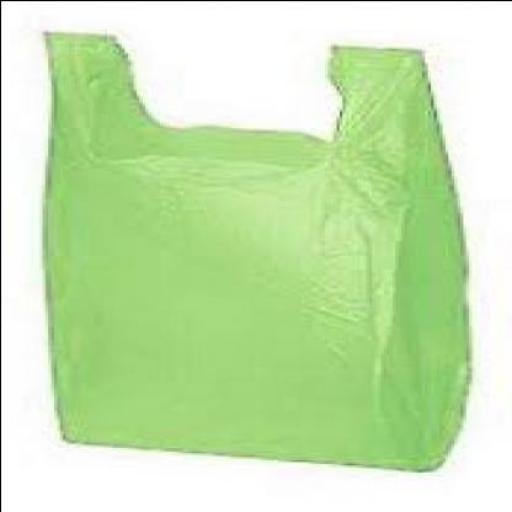plastic: (47, 28, 471, 468)
